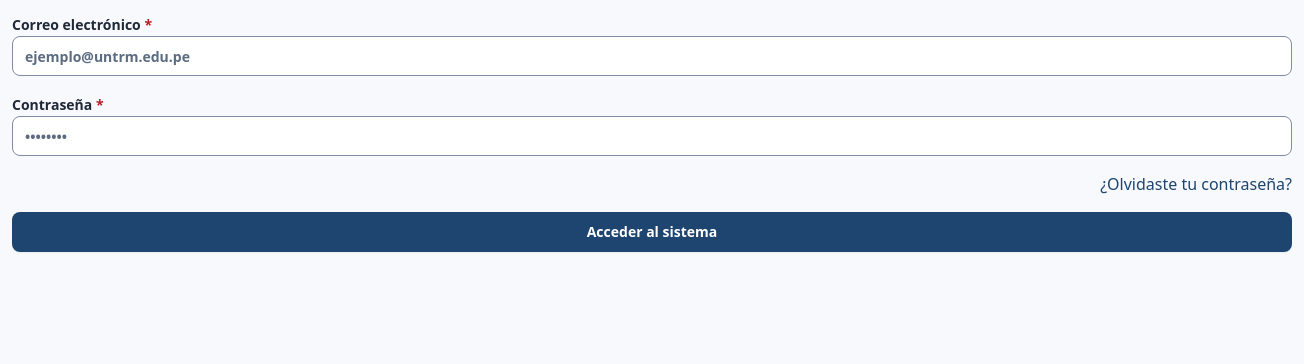
Test: LoginForm component › shows inactive account message on ACCOUNT_INACTIVE (CA4)
The width and height of the screenshot is (1304, 364).
Type "inactivo@untrm.edu.pe" into the field labelled "Correo electrónico *" at (652, 56), box [12,36,1292,76]
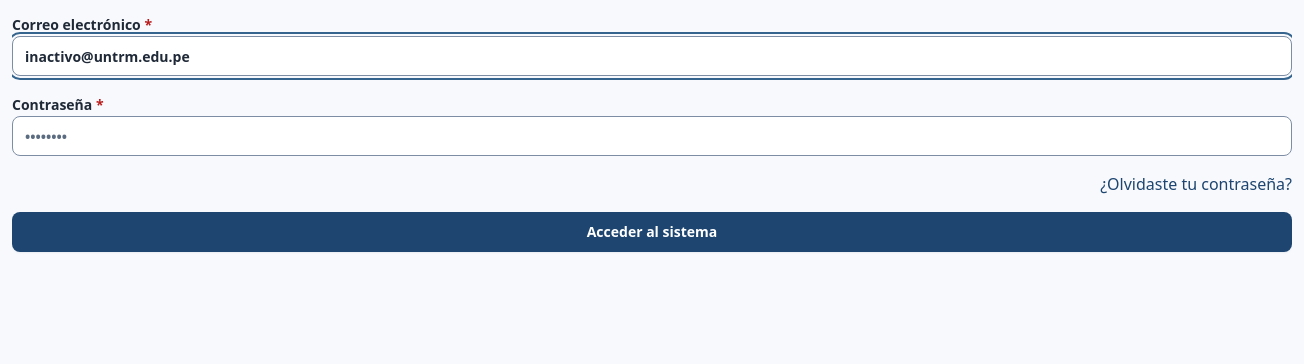
Type "ClaveValida123" into the password field labelled "Contraseña *" at (652, 136), box [12,116,1292,156]
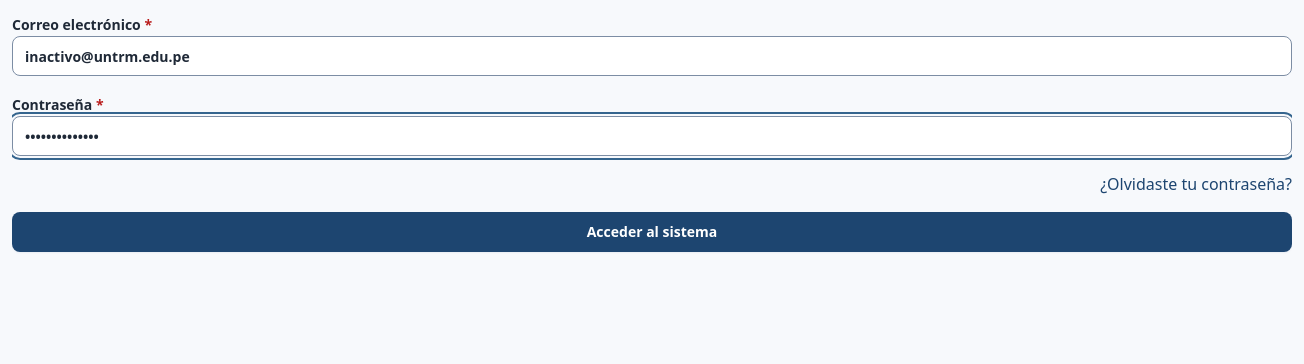
Click the button "Acceder al sistema" at (652, 232), box [12,212,1292,252]
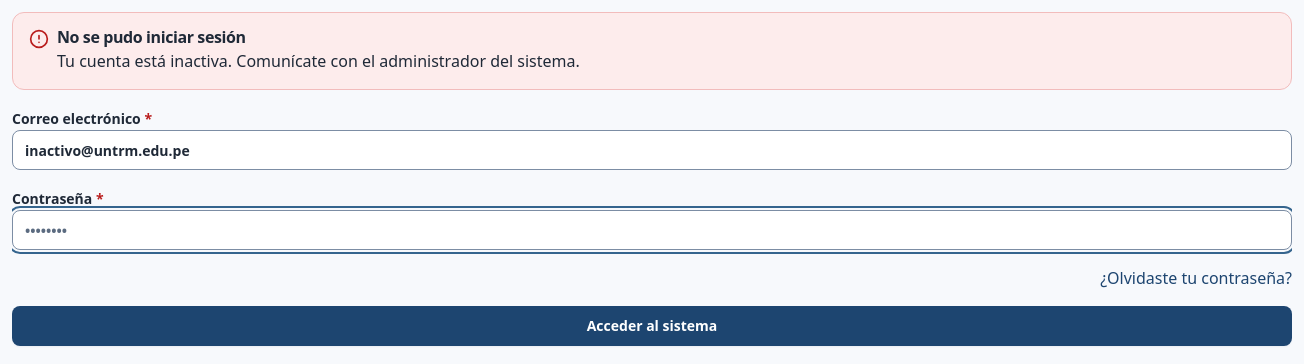
Expected: the message shows "tu cuenta está inactiva. comunícate con el administrador del sistema.", [57,50,580,72]
